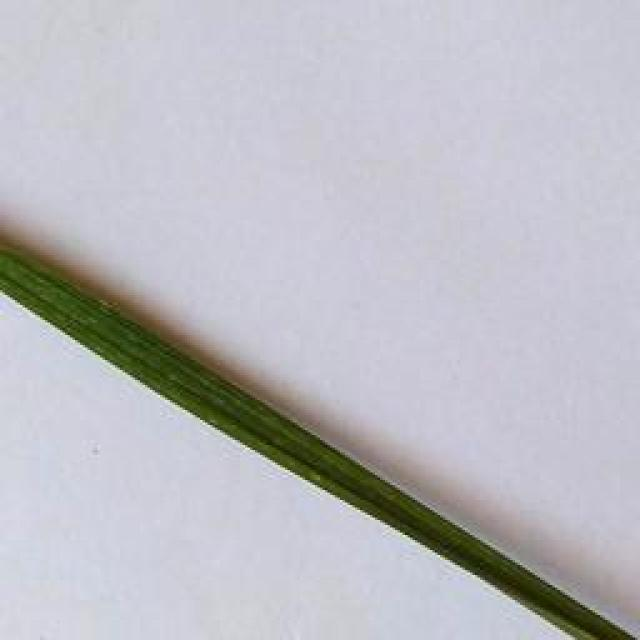Healthy-Plant: (0, 246, 638, 640)
